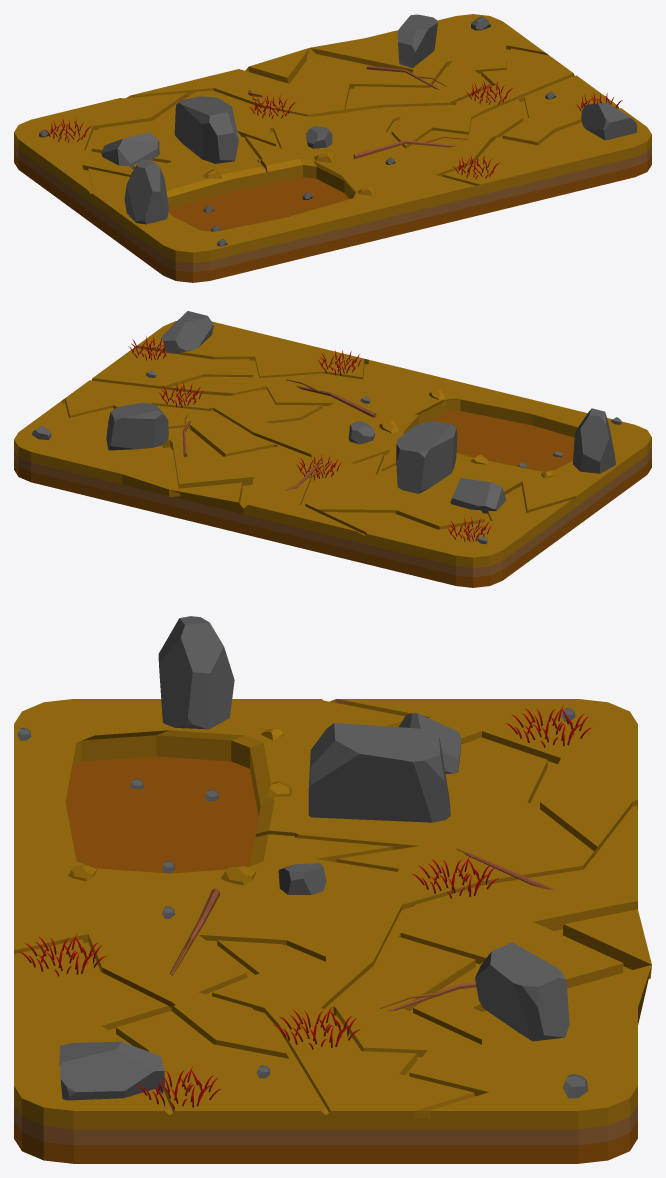
The model's file is Habitat_destruido.fbx.
The picture shows the model from 3 angles, top to bottom: view 1: azimuth 30°, elevation 25°; view 2: azimuth 150°, elevation 25°; view 3: azimuth 270°, elevation 25°; orthographic projection. The views are drawn at different scales.
Parts seen in each view (by area): view 1: Plataforma_água.001, pedra3.001, Pedra1.001, pedra3.002, Pedra1.002, pedra9.001, pedra2.001, Cylinder; view 2: Plataforma_água.001, pedra3.001, pedra3.002, Pedra1.001, Pedra1.002, pedra9.001, pedra2.001; view 3: Plataforma_água.001, pedra3.001, Pedra1.001, pedra3.002, Pedra1.002, pedra9.001, pedra2.001, Grama1.001, Grama1.003, Grama6.002, Grama6.001, Grama1.002.
Boxes of the visible parts, box(x1,y1,x2,y2) form: Plataforma_água.001: box(14, 14, 651, 282); pedra3.001: box(174, 96, 238, 163); Pedra1.001: box(124, 159, 168, 224); pedra3.002: box(397, 14, 437, 68); Pedra1.002: box(581, 102, 636, 140); pedra9.001: box(101, 132, 159, 169); pedra2.001: box(306, 126, 332, 148); Cylinder: box(353, 140, 458, 158); Plataforma_água.001: box(14, 321, 651, 587); pedra3.001: box(396, 421, 457, 493); pedra3.002: box(106, 402, 168, 450); Pedra1.001: box(573, 408, 615, 473); Pedra1.002: box(162, 311, 213, 353); pedra9.001: box(450, 478, 506, 513); pedra2.001: box(348, 421, 374, 444); Plataforma_água.001: box(14, 699, 651, 1163); pedra3.001: box(308, 723, 450, 822); Pedra1.001: box(158, 616, 234, 729); pedra3.002: box(475, 942, 569, 1041); Pedra1.002: box(59, 1041, 164, 1100); pedra9.001: box(398, 713, 461, 773); pedra2.001: box(278, 863, 326, 894); Grama1.001: box(19, 933, 105, 976); Grama1.003: box(274, 1006, 359, 1049); Grama6.002: box(505, 705, 591, 747); Grama6.001: box(412, 857, 498, 898); Grama1.002: box(136, 1066, 220, 1109).
Bounding box in the file's own units: 504 × 83.08 × 327.
